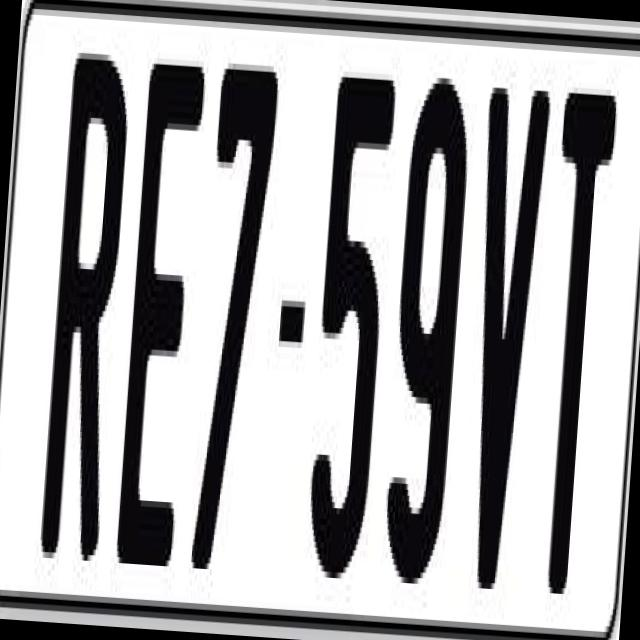5: (301, 64, 398, 574)
7: (184, 62, 282, 594)
9: (379, 76, 473, 585)
E: (110, 57, 204, 566)
R: (37, 46, 136, 578)
T: (532, 81, 624, 584)
V: (454, 81, 558, 602)
